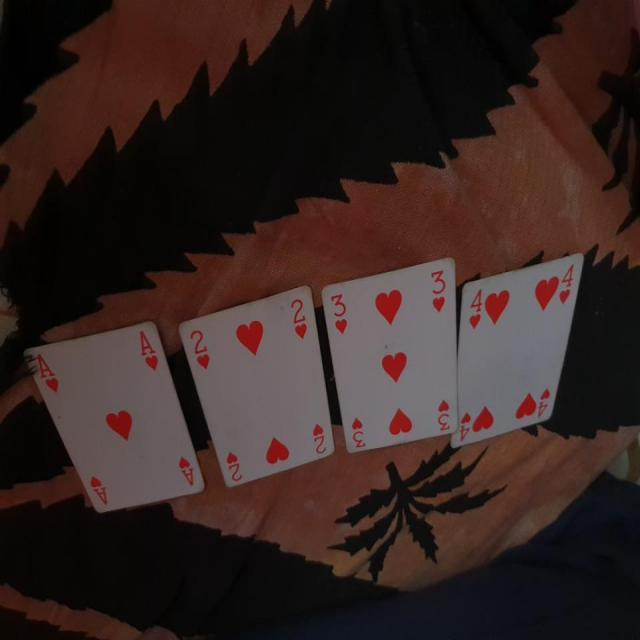2 of hearts: (174, 280, 344, 508)
3 of hearts: (318, 251, 464, 462)
4 of hearts: (453, 246, 588, 439)
ace of hearts: (17, 317, 205, 514)
